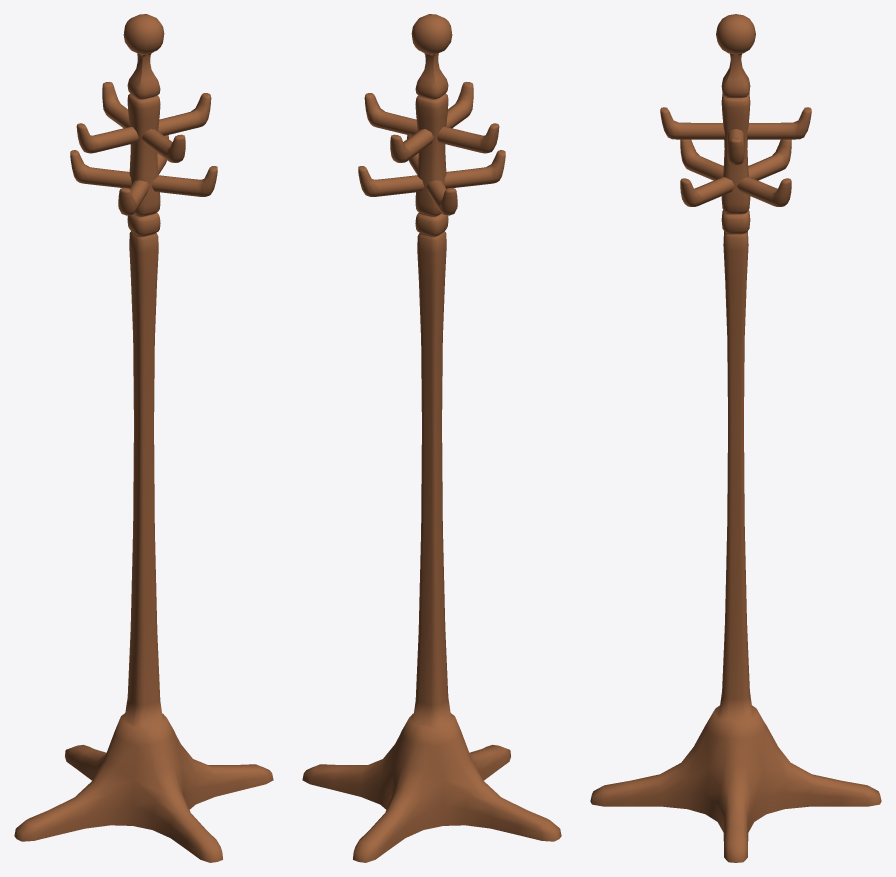
File: CoatStand.fbx
3 renders of one model, left to right at view 1: azimuth 30°, elevation 25°; view 2: azimuth 150°, elevation 25°; view 3: azimuth 270°, elevation 25°, orthographic.
Visible parts, largest first — view 1: Percherito; view 2: Percherito; view 3: Percherito.
Part boxes in pixels (bbox=[...]): Percherito: bbox=[14, 14, 273, 862]; Percherito: bbox=[302, 14, 561, 862]; Percherito: bbox=[590, 14, 881, 862].
Size of the model in its own units: 68.06 by 202 by 68.06.
